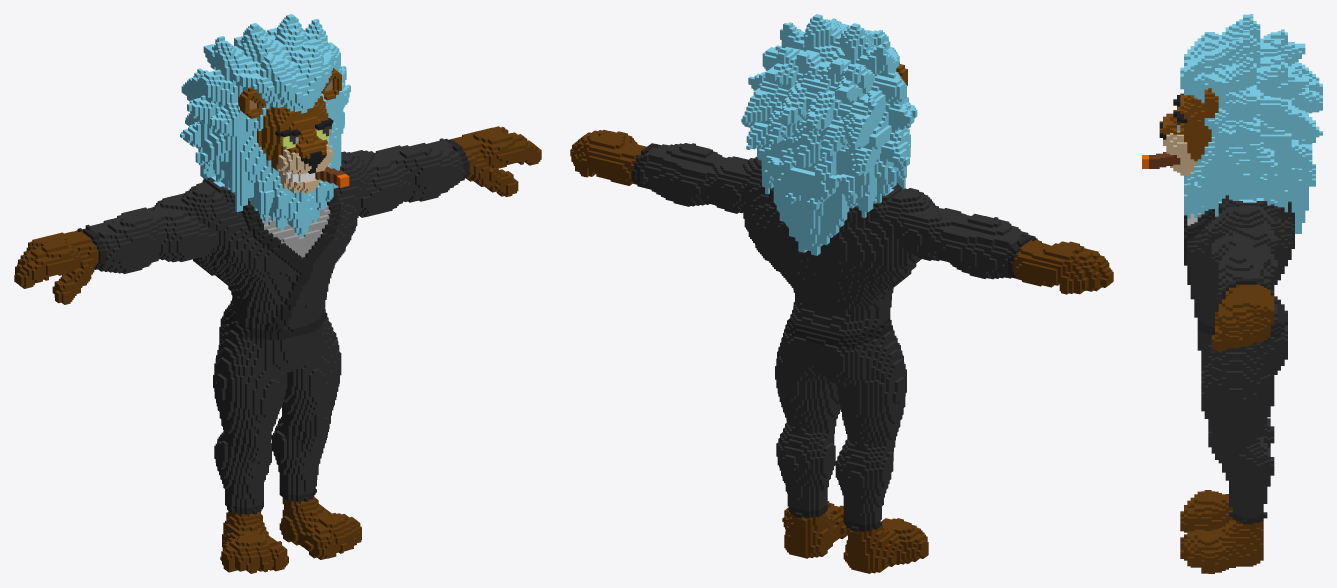
The picture shows the model from 3 angles, left to right: view 1: azimuth 30°, elevation 25°; view 2: azimuth 150°, elevation 25°; view 3: azimuth 270°, elevation 25°; orthographic projection. The views are drawn at different scales.
Parts seen in each view (by area): view 1: cigar; view 2: cigar; view 3: cigar.
Boxes of the visible parts, x1,y1,x2,y2 form: cigar: (14, 14, 541, 573); cigar: (570, 14, 1113, 573); cigar: (1142, 14, 1322, 573).
Size of the model in its own units: 17.2 by 16.5 by 5.2.
5 materials, 5 textured.
